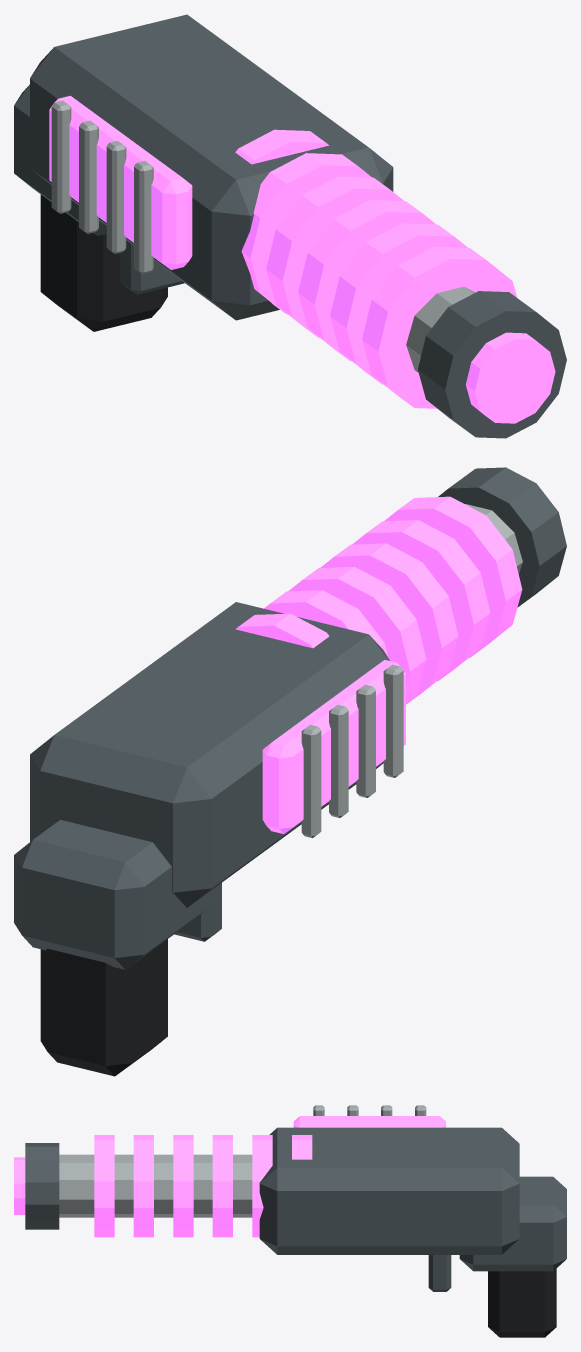
Rendered from arc-repeater.glb.
3 renders of one model, top to bottom at view 1: azimuth 30°, elevation 25°; view 2: azimuth 150°, elevation 25°; view 3: azimuth 270°, elevation 25°, orthographic. The views are drawn at different scales.
Parts seen in each view (by area): view 1: Weapon_Body | Campaign compact armory.002, Weapon_Body | Population luminous violet; view 2: Weapon_Body | Campaign compact armory.002, Weapon_Body | Population luminous violet; view 3: Weapon_Body | Campaign compact armory.002, Weapon_Body | Population luminous violet.
Boxes of the visible parts, x1,y1,x2,y2 form: Weapon_Body | Campaign compact armory.002: (14, 14, 566, 438); Weapon_Body | Population luminous violet: (49, 95, 555, 423); Weapon_Body | Campaign compact armory.002: (14, 467, 566, 1076); Weapon_Body | Population luminous violet: (235, 496, 522, 833); Weapon_Body | Campaign compact armory.002: (25, 1105, 566, 1337); Weapon_Body | Population luminous violet: (14, 1116, 445, 1237).
Bounding box in the file's own units: 0.282 × 0.37 × 0.979.
